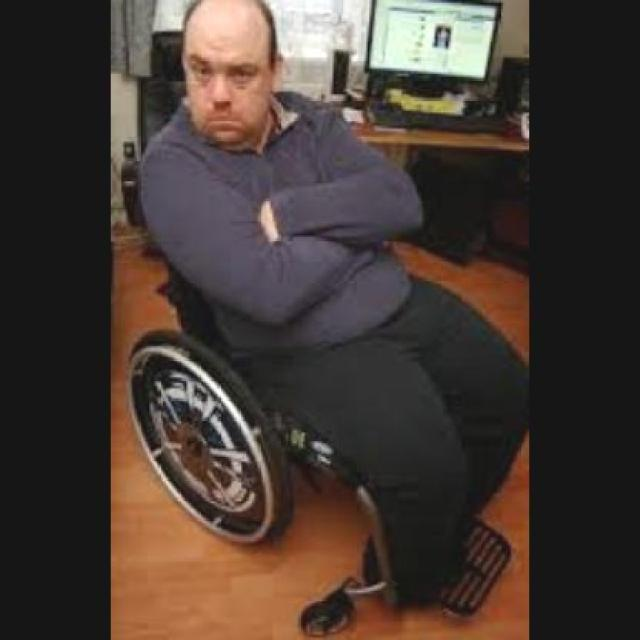wheelchairs: (137, 157, 515, 626)
